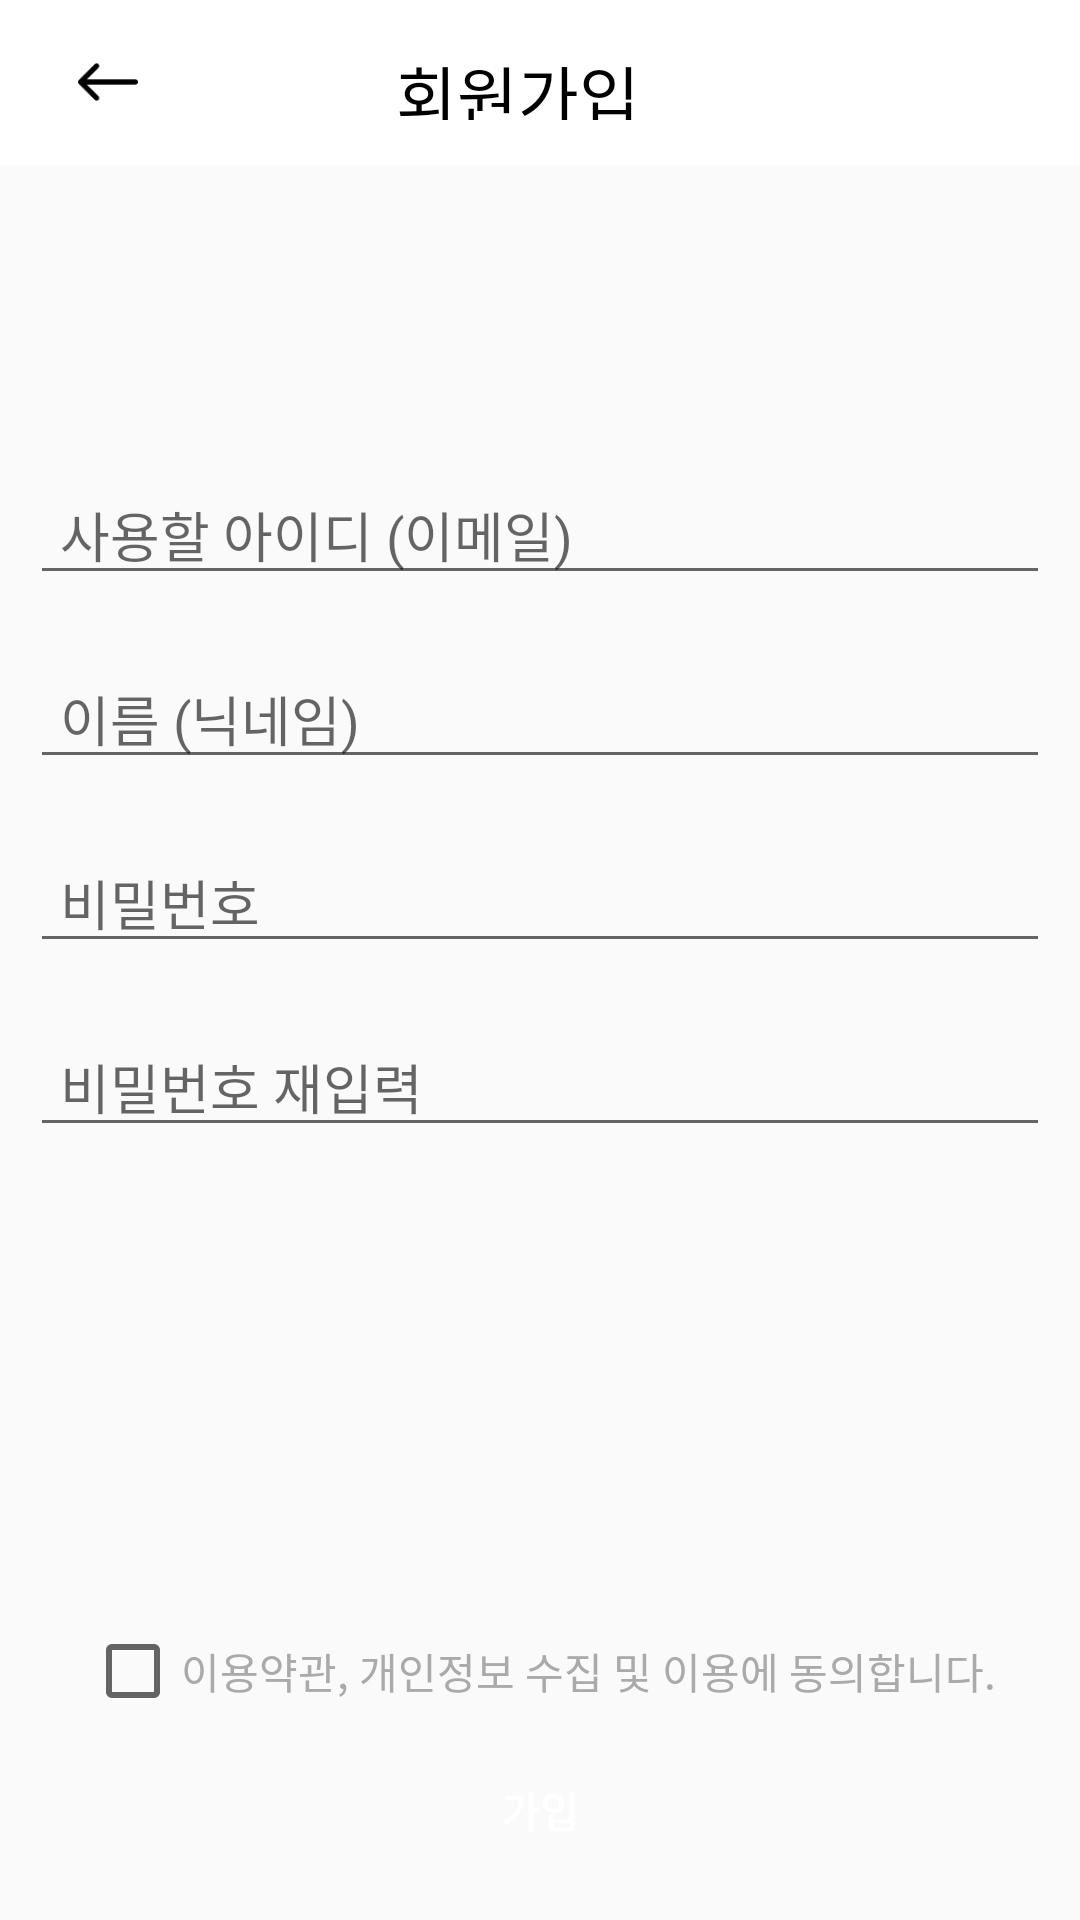

Screen size 1080w x 1920h. Icon name, then its box in pixels as (x1, y1, x2, y2):
left arrow: (78, 63, 138, 101)
